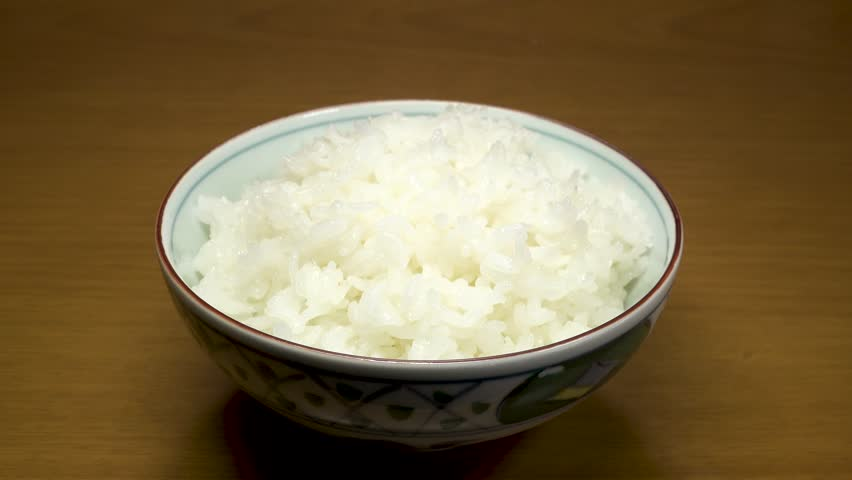plain rice: (242, 167, 613, 326)
